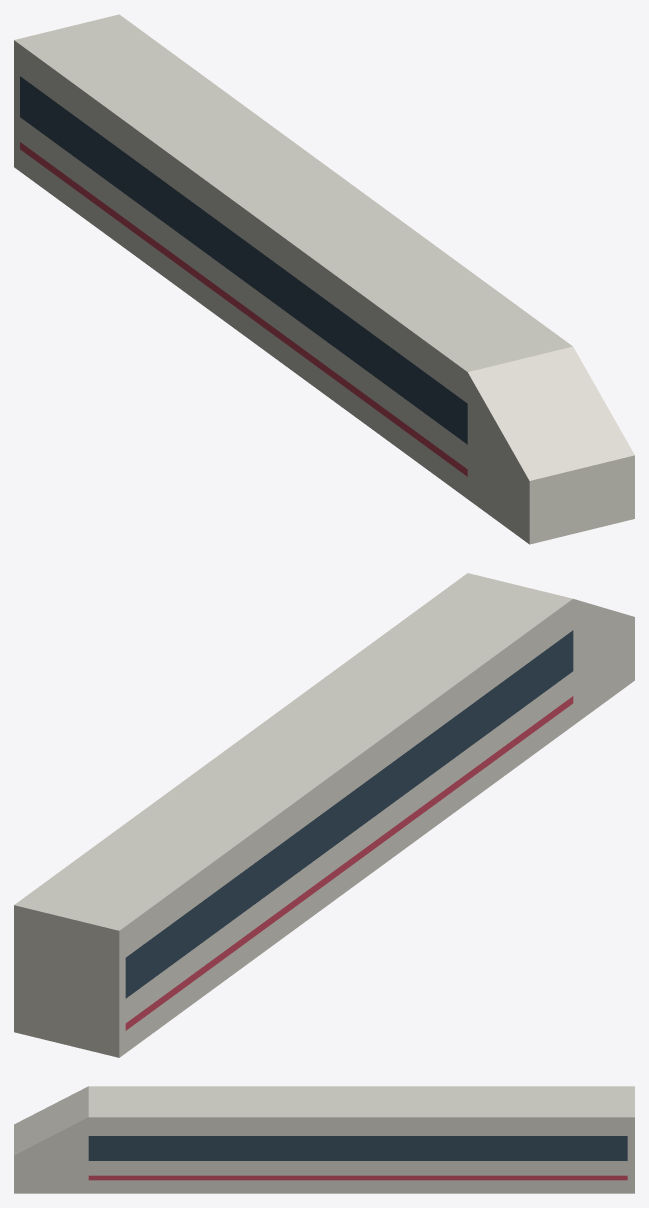
The model's file is 390_far.fbx.
3 renders of one model, top to bottom at view 1: azimuth 30°, elevation 25°; view 2: azimuth 150°, elevation 25°; view 3: azimuth 270°, elevation 25°, orthographic. The views are drawn at different scales.
Visible parts, largest first — view 1: 390_far; view 2: 390_far; view 3: 390_far.
Part boxes in pixels (x1,y1,x2,y2): 390_far: [14, 14, 634, 544]; 390_far: [14, 573, 634, 1057]; 390_far: [14, 1086, 634, 1193].
Bounding box in the file's own units: 2.96 × 3.4 × 25.
